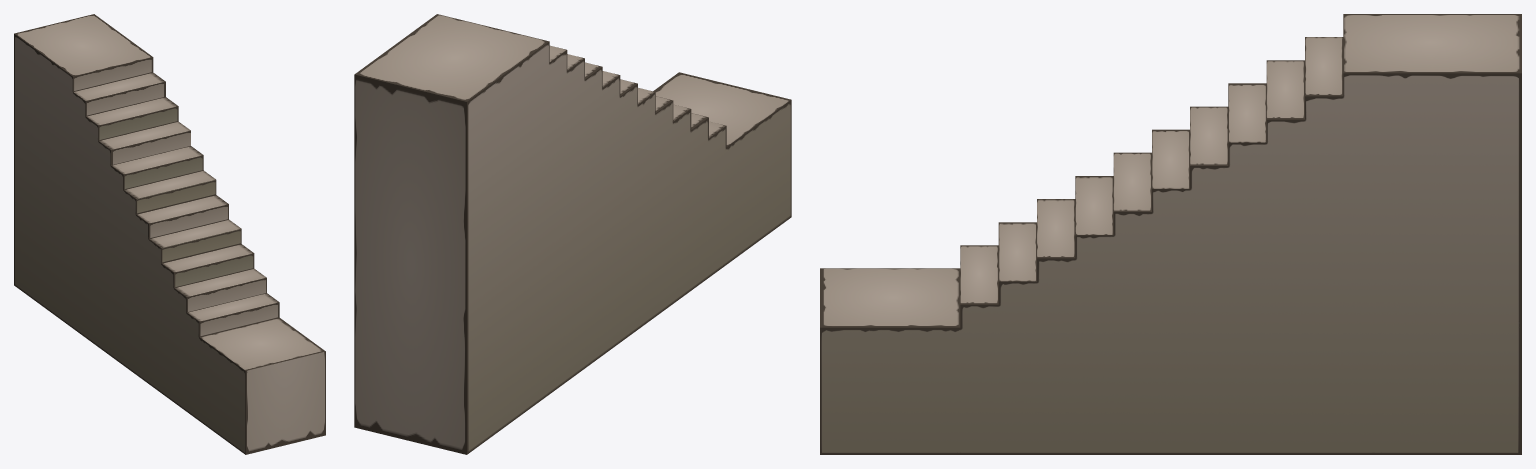
The model's file is TowerStoneStaircase.fbx.
The picture shows the model from 3 angles, left to right: view 1: azimuth 30°, elevation 25°; view 2: azimuth 150°, elevation 25°; view 3: azimuth 270°, elevation 25°; orthographic projection. The views are drawn at different scales.
Visible parts, largest first — view 1: StaircaseA; view 2: StaircaseA; view 3: StaircaseA.
Boxes of the visible parts, x1,y1,x2,y2 form: StaircaseA: (14,14,325,454); StaircaseA: (354,14,791,454); StaircaseA: (820,14,1521,454).
Bounding box in the file's own units: 200 × 600 × 1000.
